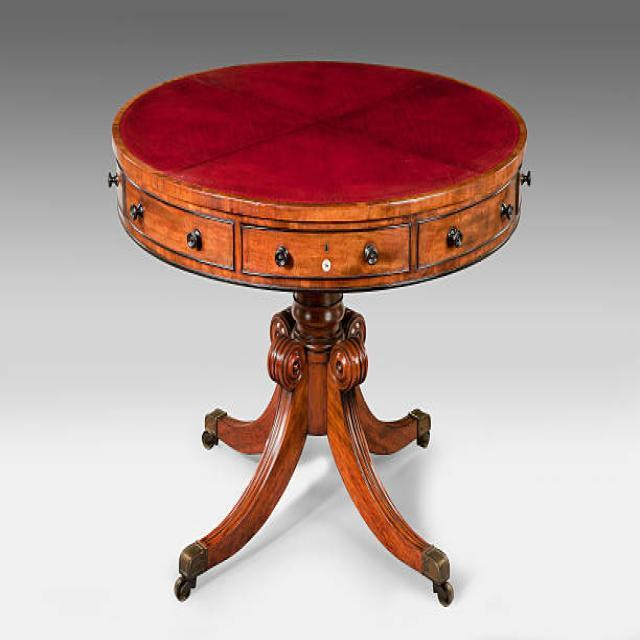table: (106, 58, 532, 607)
